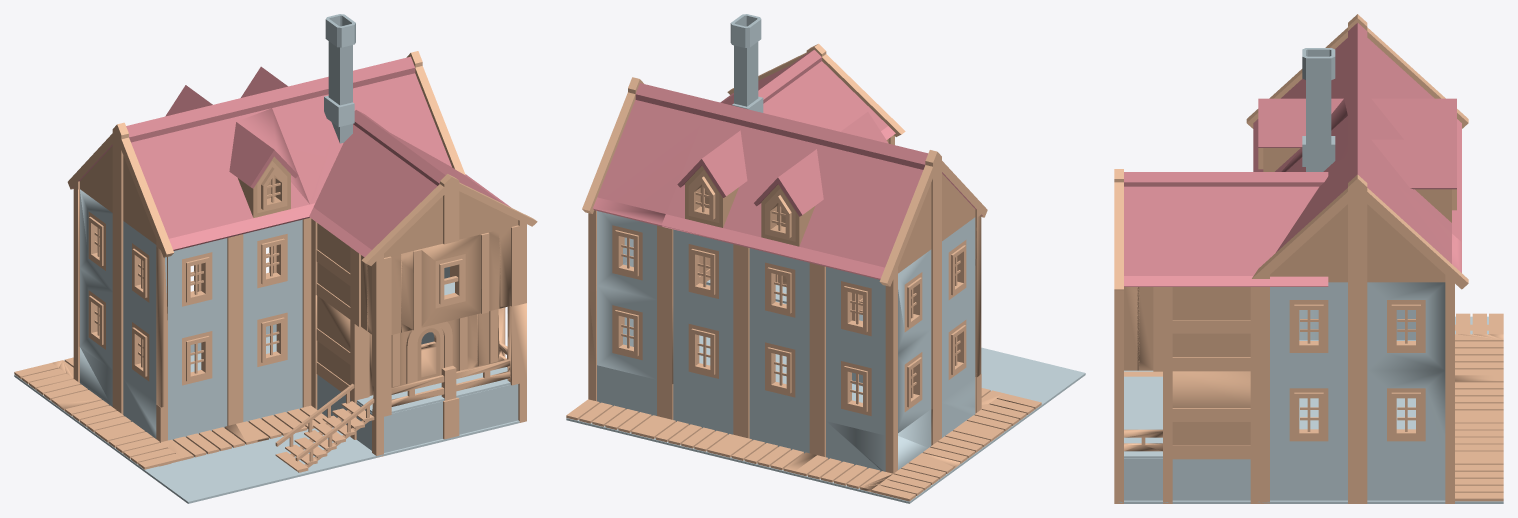
Rendered from Tavern.fbx.
3 views of the same model, side by side, from view 1: azimuth 30°, elevation 25°; view 2: azimuth 150°, elevation 25°; view 3: azimuth 270°, elevation 25° (orthographic). The views are drawn at different scales.
Visible parts, largest first — view 1: wallHalf, roofHighWindow.001, wallWoodDetailHorizontal, chimney; view 2: wallHalf, roofHighWindow.001, wallWoodDetailHorizontal, chimney; view 3: roofHighWindow.001, wallHalf, wallWoodDetailHorizontal, chimney.
Boxes of the visible parts, left/top/right/bottom form: wallHalf: left=14, top=187, right=526, bottom=503; roofHighWindow.001: left=67, top=51, right=537, bottom=265; wallWoodDetailHorizontal: left=14, top=219, right=526, bottom=472; chimney: left=324, top=14, right=355, bottom=143; wallHalf: left=566, top=210, right=1085, bottom=503; roofHighWindow.001: left=582, top=43, right=987, bottom=286; wallWoodDetailHorizontal: left=566, top=135, right=1041, bottom=501; chimney: left=730, top=14, right=763, bottom=112; roofHighWindow.001: left=1114, top=14, right=1468, bottom=290; wallHalf: left=1114, top=282, right=1503, bottom=503; wallWoodDetailHorizontal: left=1114, top=287, right=1503, bottom=501; chimney: left=1302, top=48, right=1335, bottom=171.
Bounding box in the file's own units: 464 × 453 × 400.
